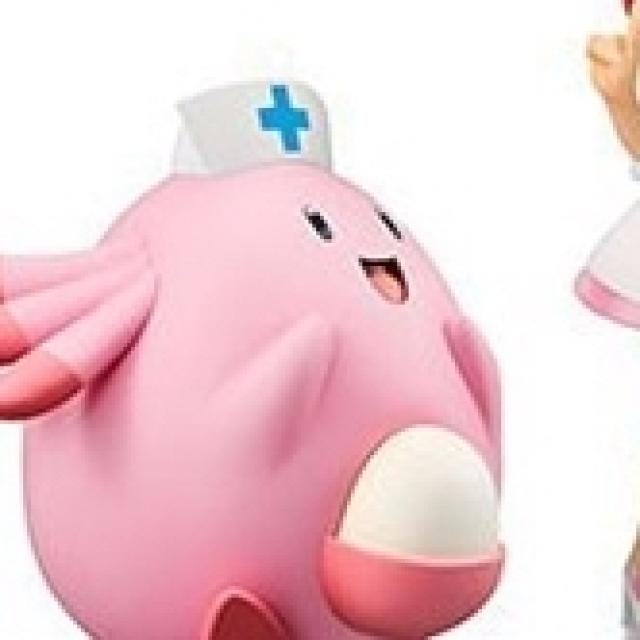Chansey: (6, 165, 511, 640)
